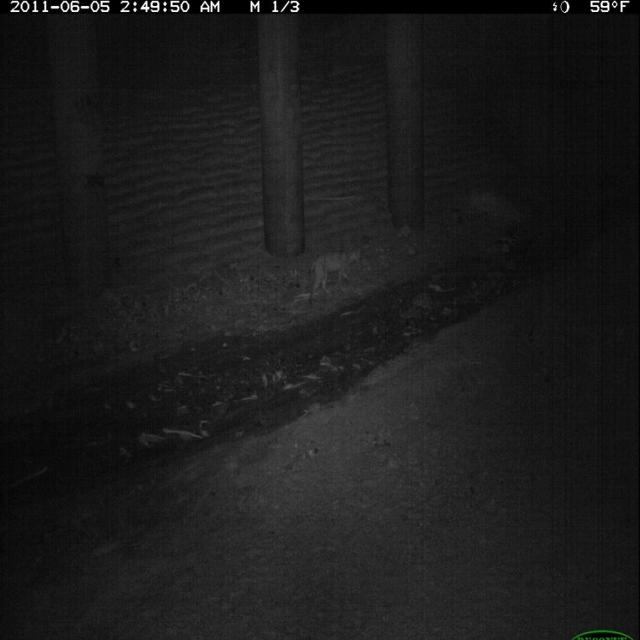bobcat: (306, 241, 368, 311)
